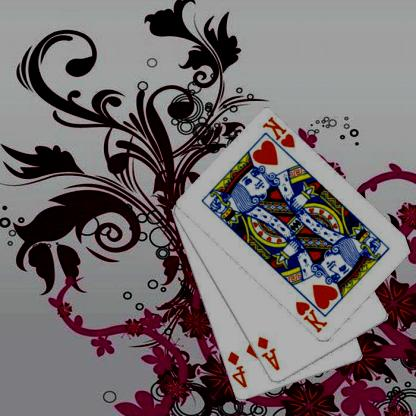4D: (226, 350, 250, 390)
AD: (256, 334, 283, 373)
KH: (294, 299, 331, 335), (262, 114, 298, 150)
